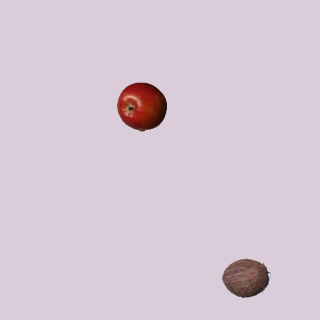Apple Braeburn: (116, 81, 166, 131)
Cocos: (220, 252, 270, 302)
